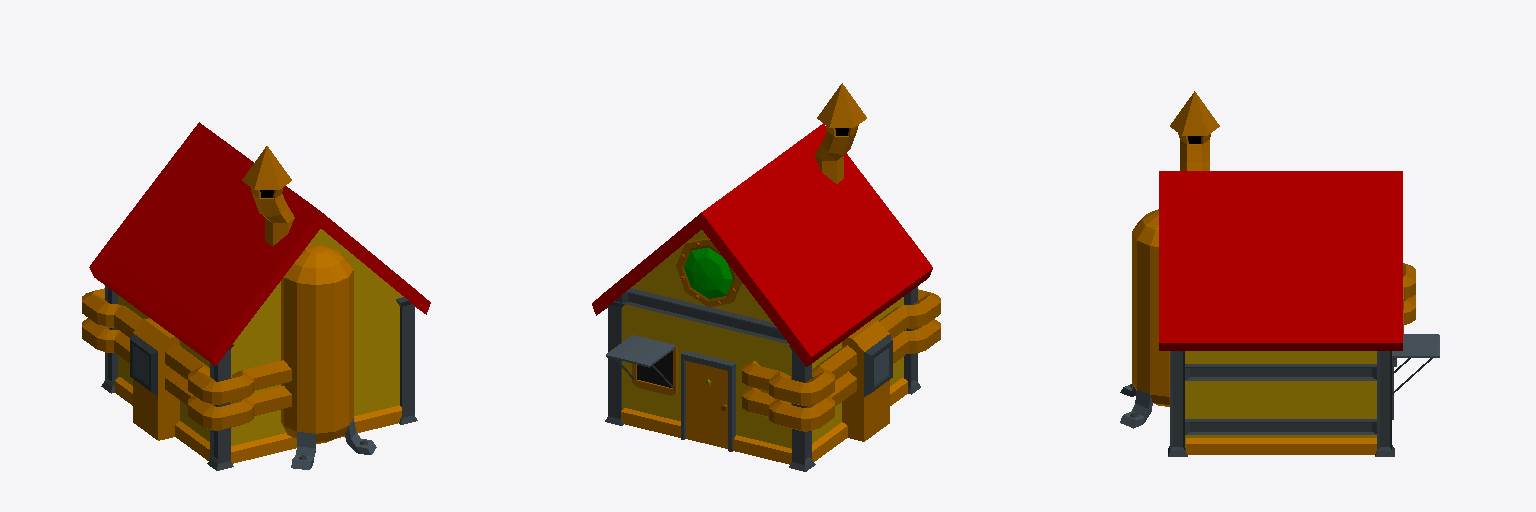
3 views of the same model, side by side, from view 1: azimuth 30°, elevation 25°; view 2: azimuth 150°, elevation 25°; view 3: azimuth 270°, elevation 25° (orthographic).
Visible parts, largest first — view 1: House_Cube.060; view 2: House_Cube.060; view 3: House_Cube.060.
Part boxes in pixels (x1,y1,x2,y2): House_Cube.060: (82, 122, 430, 470); House_Cube.060: (592, 83, 940, 471); House_Cube.060: (1120, 91, 1439, 456).
Size of the model in its own units: 3.52 by 4.39 by 4.26.
1 materials, 1 textured.